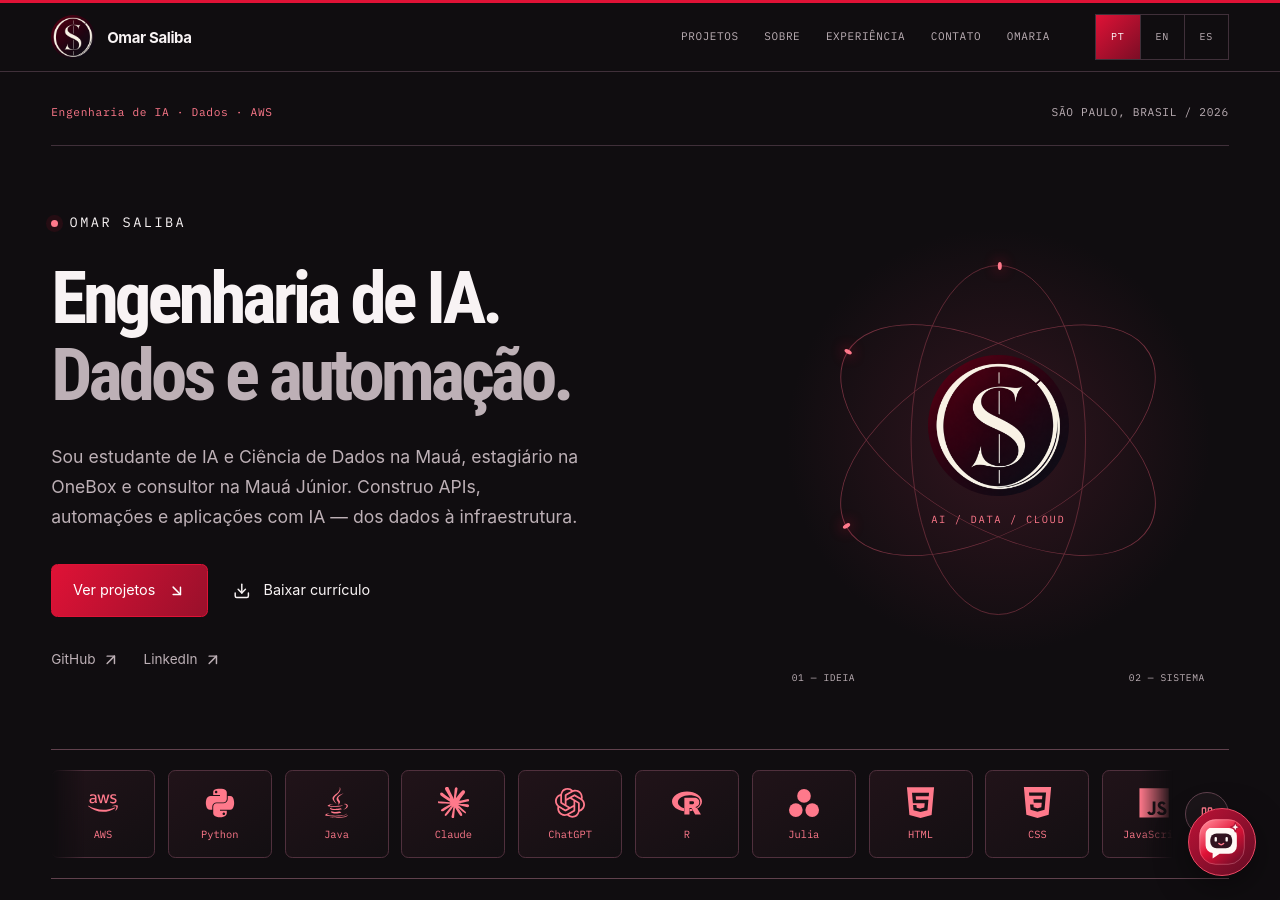
Test case: portfolio › switches project details and document language in both translations
The image size is (1280, 900).
Click the button with aria-label "EN — English". click: (1162, 37)
box: [1140,15,1184,59]
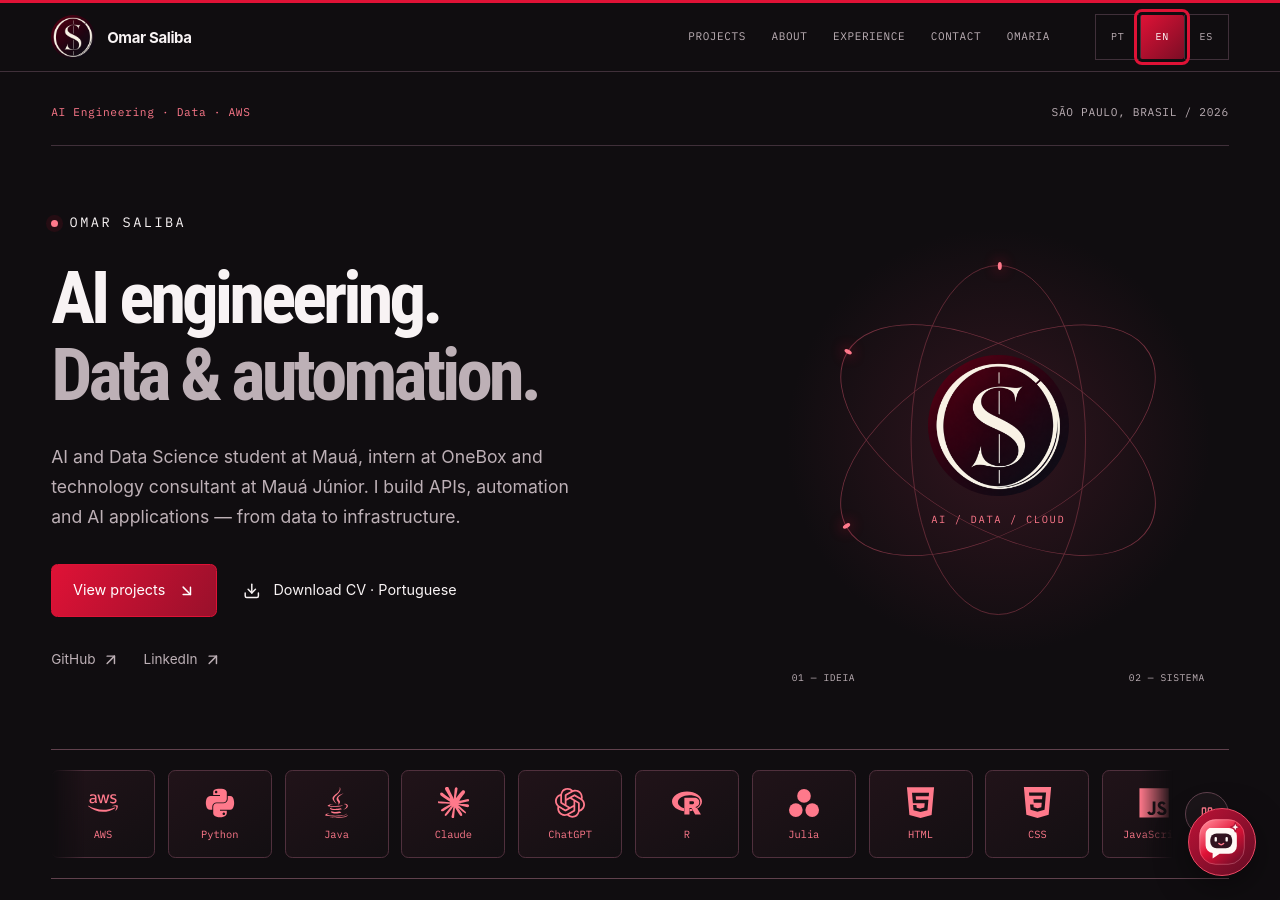
Click the button with aria-label "ES — Español". click: (1206, 37)
box: [1184,15,1228,59]
(page scrolled)
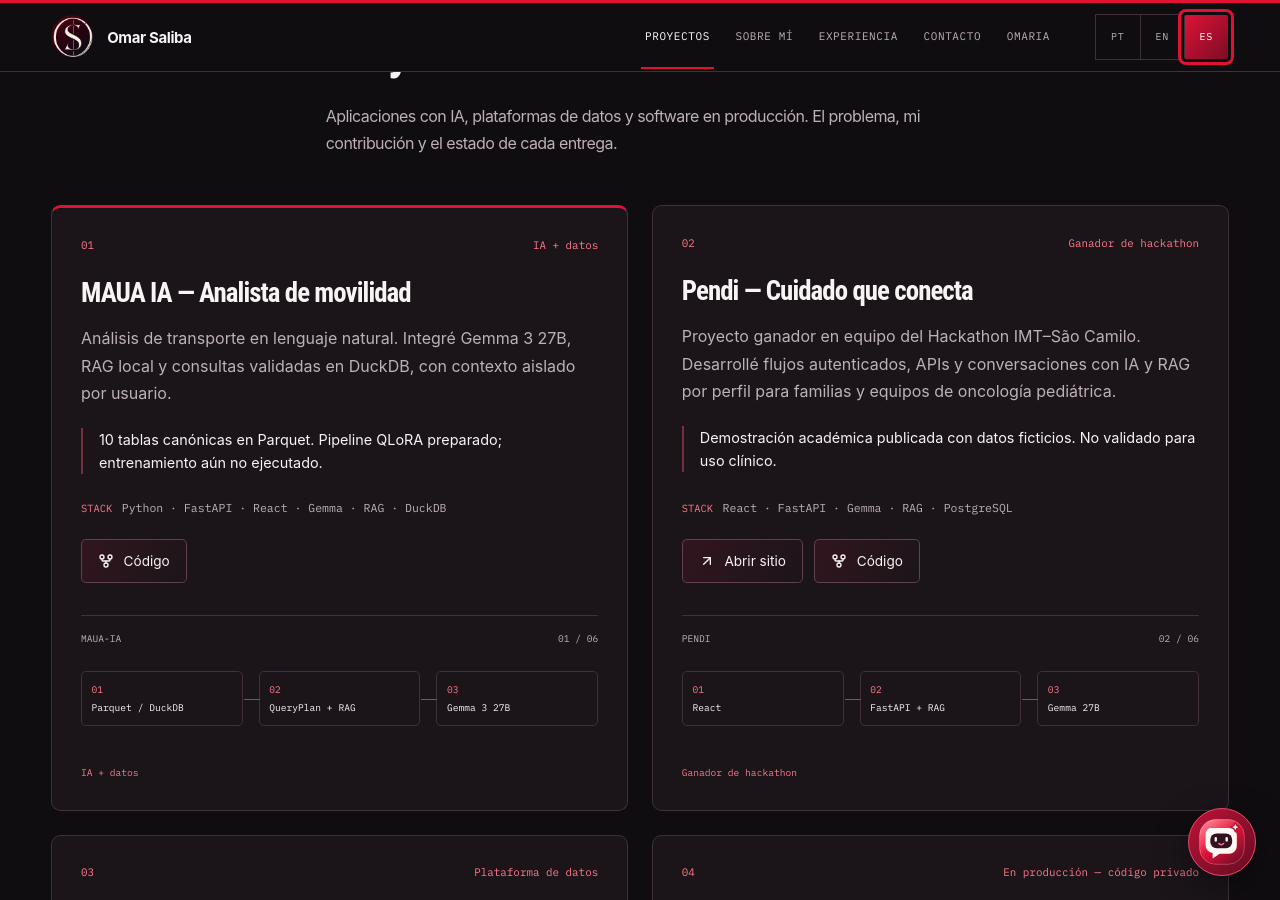
expect the text "entrenamiento aún no ejecutado" is shown: met, box [99,431,502,471]
